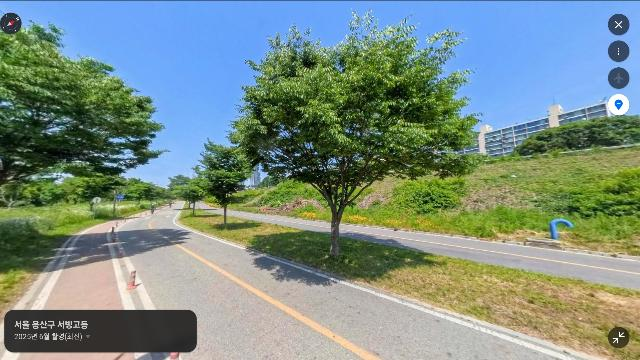other: (225, 8, 483, 257), (0, 17, 168, 208), (194, 137, 259, 227), (99, 174, 143, 212), (177, 177, 213, 218)
